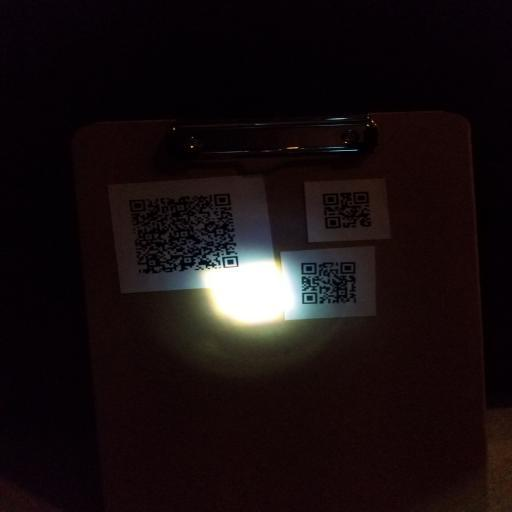qr_code: (128, 192, 240, 277), (301, 262, 357, 305), (321, 191, 373, 230)
